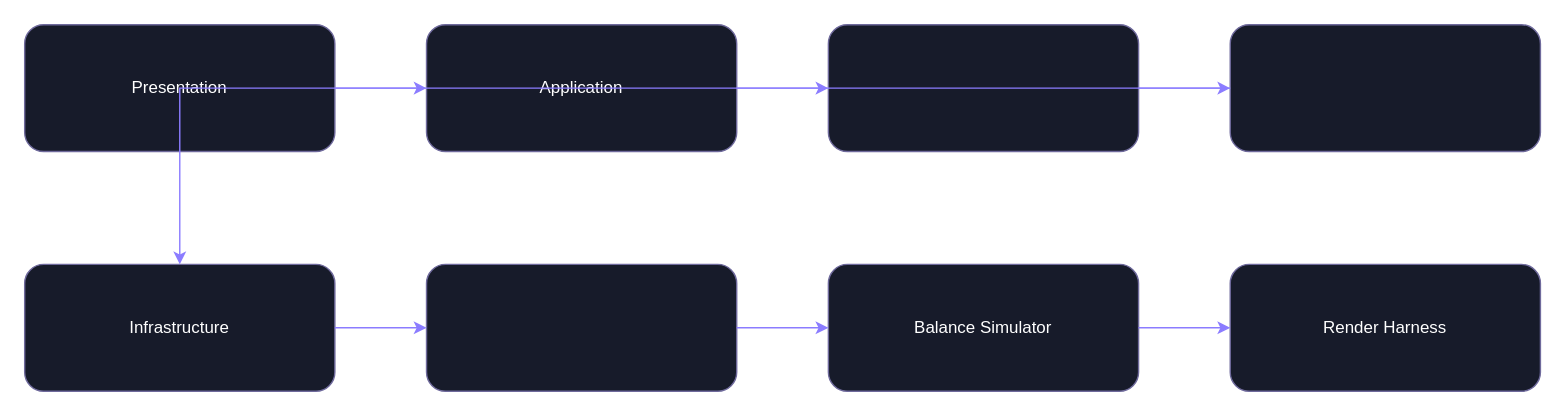
Image size: 1565x416. Some labels were removed from this diagram. The centre of each missing label's shape, as x and y in pixels:
Data: [1384,87]
Domain: [983,87]
Headless Runner: [581,327]
